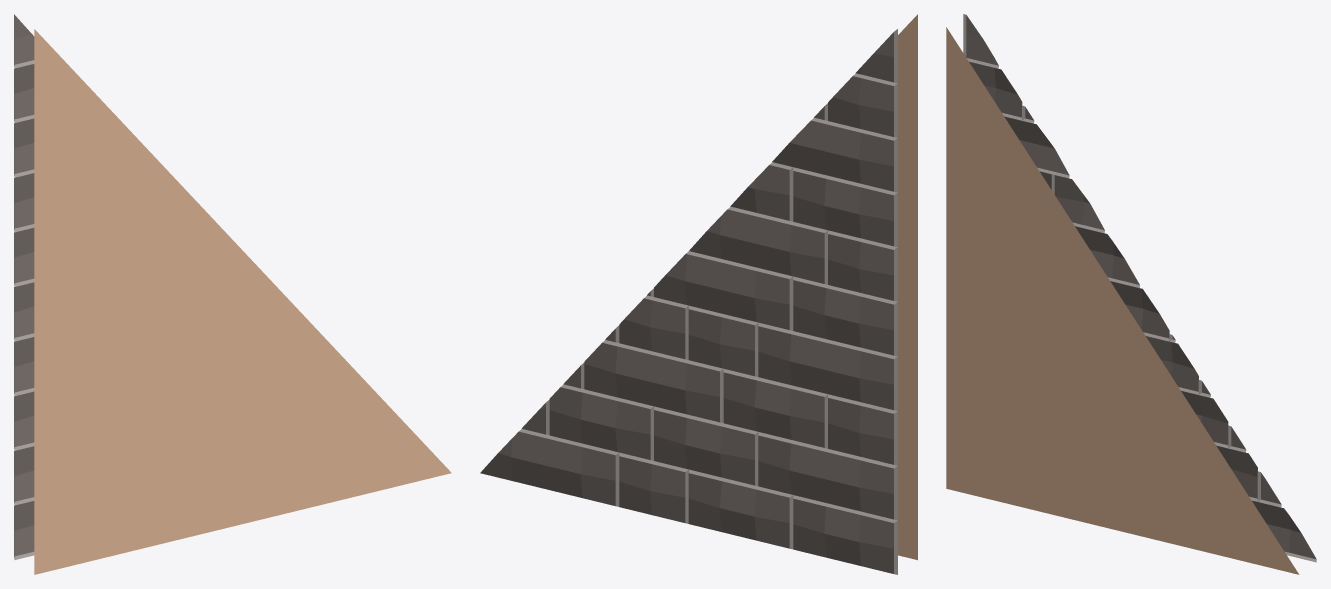
The model's file is WallAngle_Side_3.fbx.
3 renders of one model, left to right at view 1: azimuth 30°, elevation 25°; view 2: azimuth 150°, elevation 25°; view 3: azimuth 330°, elevation 25°, orthographic. The views are drawn at different scales.
Parts seen in each view (by area): view 1: WallAngle_Side_3; view 2: WallAngle_Side_3; view 3: WallAngle_Side_3.
Part boxes in pixels (x1=…): WallAngle_Side_3: x1=14, y1=14, x2=451, y2=574; WallAngle_Side_3: x1=480, y1=14, x2=917, y2=574; WallAngle_Side_3: x1=946, y1=14, x2=1316, y2=574.
Bounding box in the file's own units: 2.4 × 0.24 × 3.
